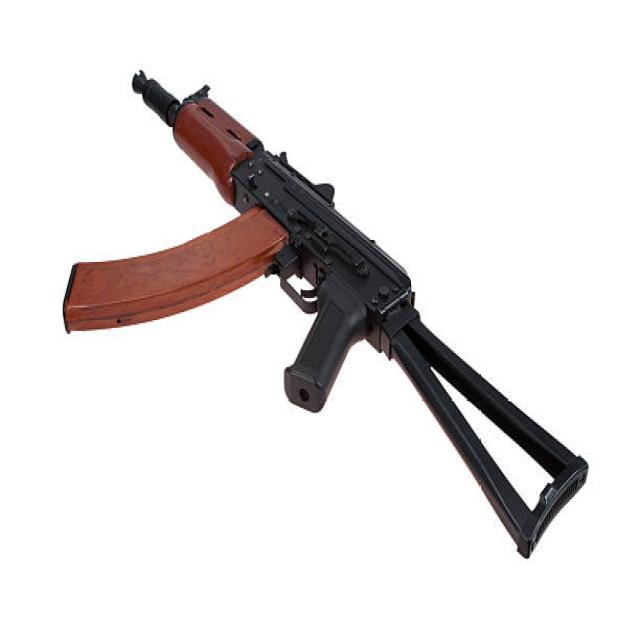rifle: (54, 63, 599, 579)
